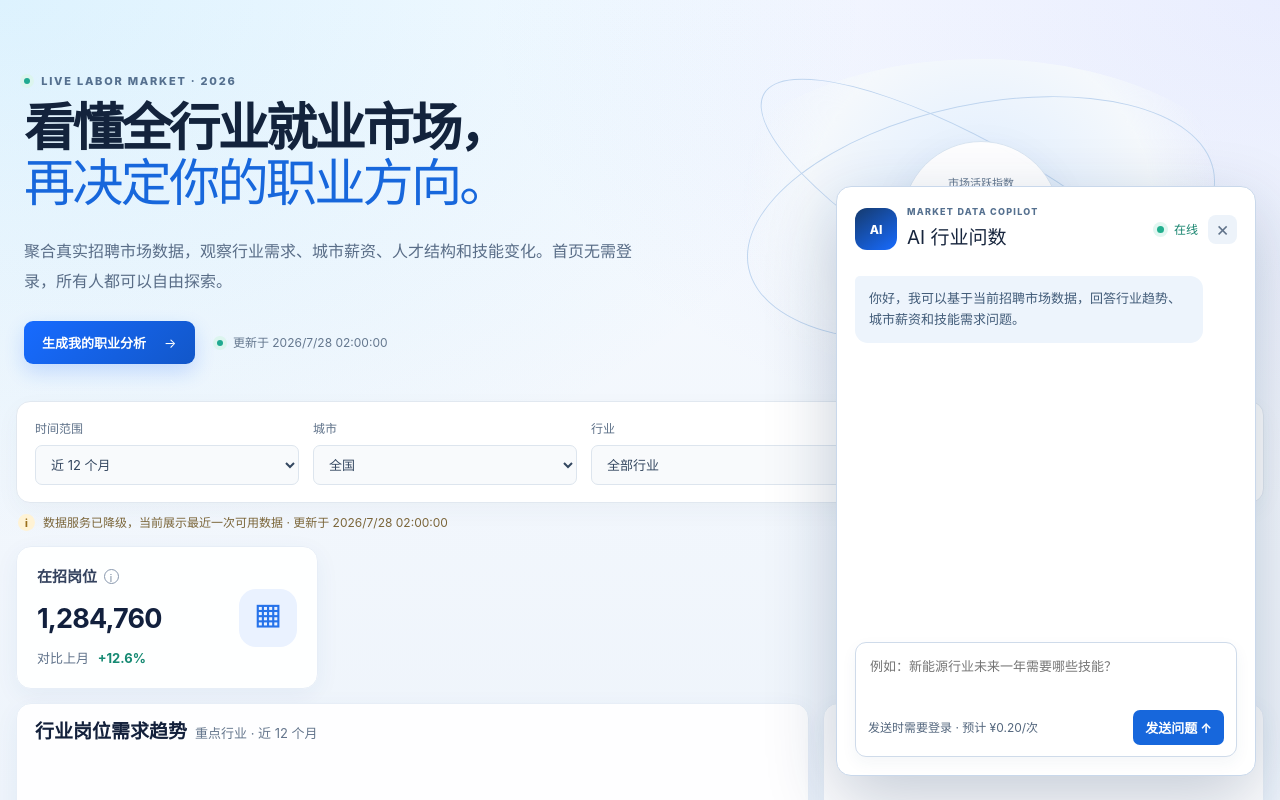
Test case: HomeView V2 › recovers a same-feature active market run returned by a 409
Type "继续查看市场数据" into the text box with test id "market-ai-input" at (1046, 678), box [868,654,1224,702]
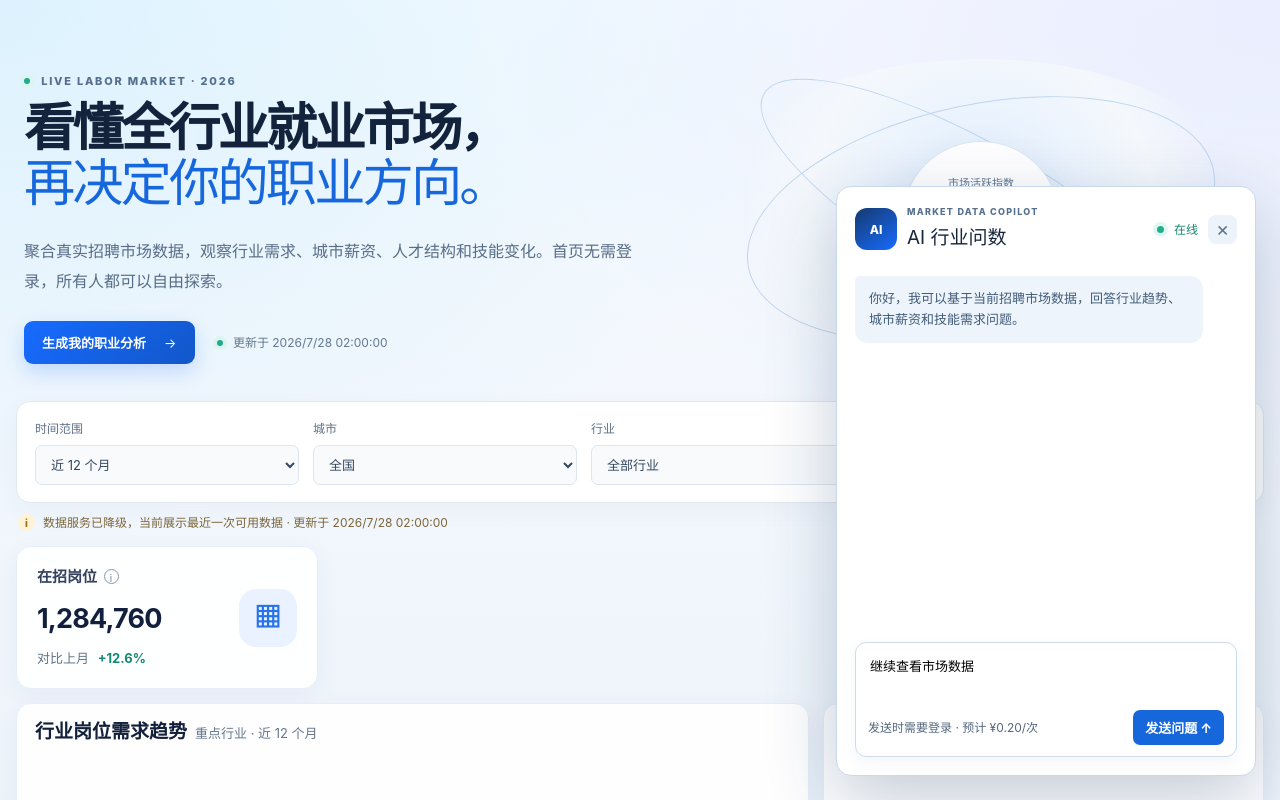
Submit the form with class "ai-composer", box [855,642,1237,757]
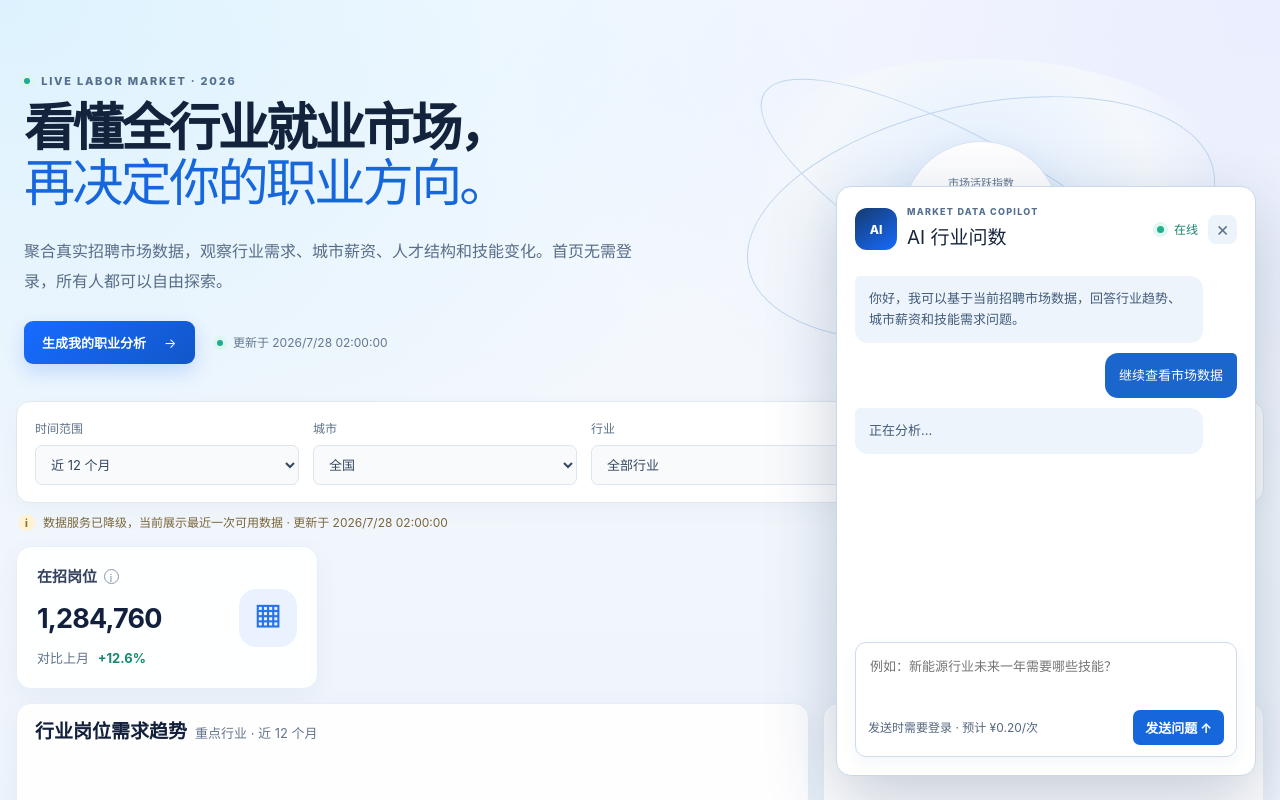
Expected: the element with test id "market-ai-streaming-message" is shown, [869,422,932,438]
